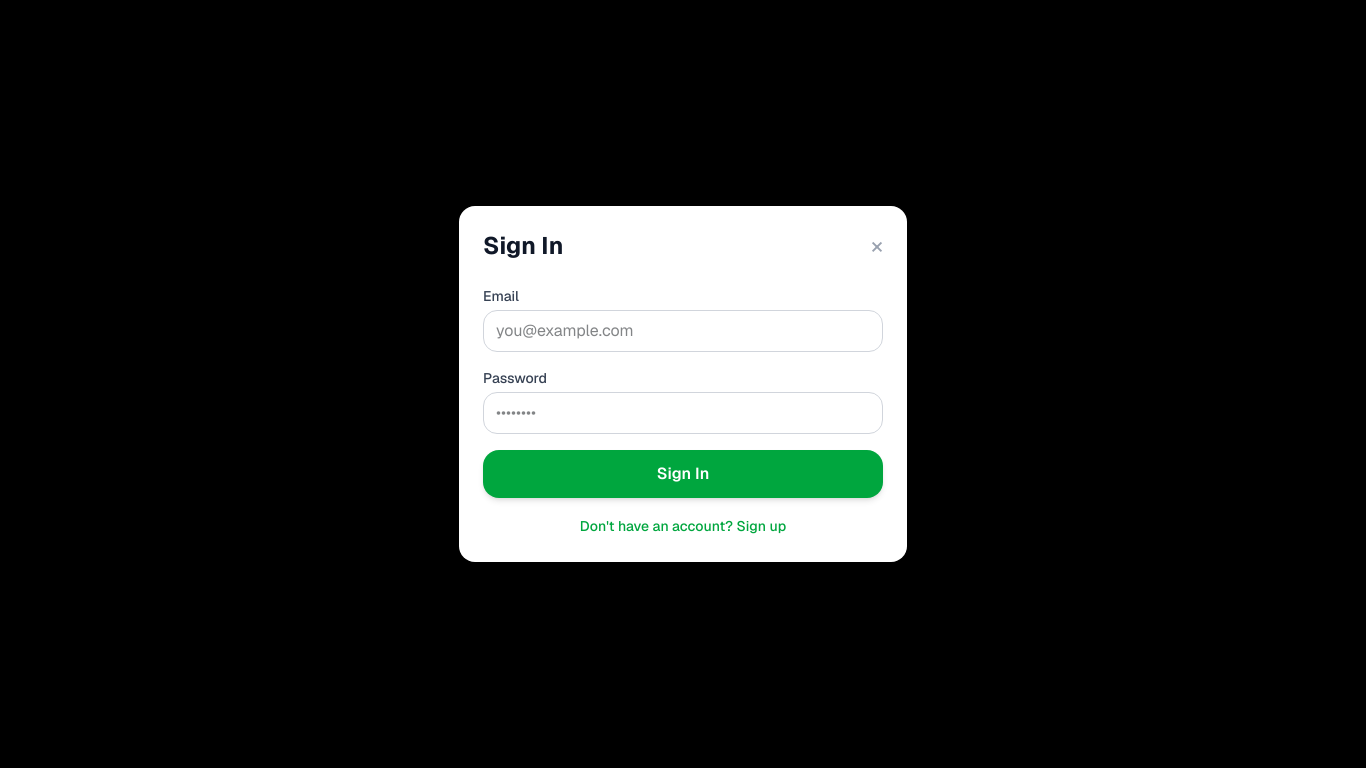
Test: AuthModal › form validation › should show error for mismatched passwords in sign up
Switch to sign up mode
Click the button "Don't have an account? Sign up". click: (683, 526)
box: [580,516,786,536]
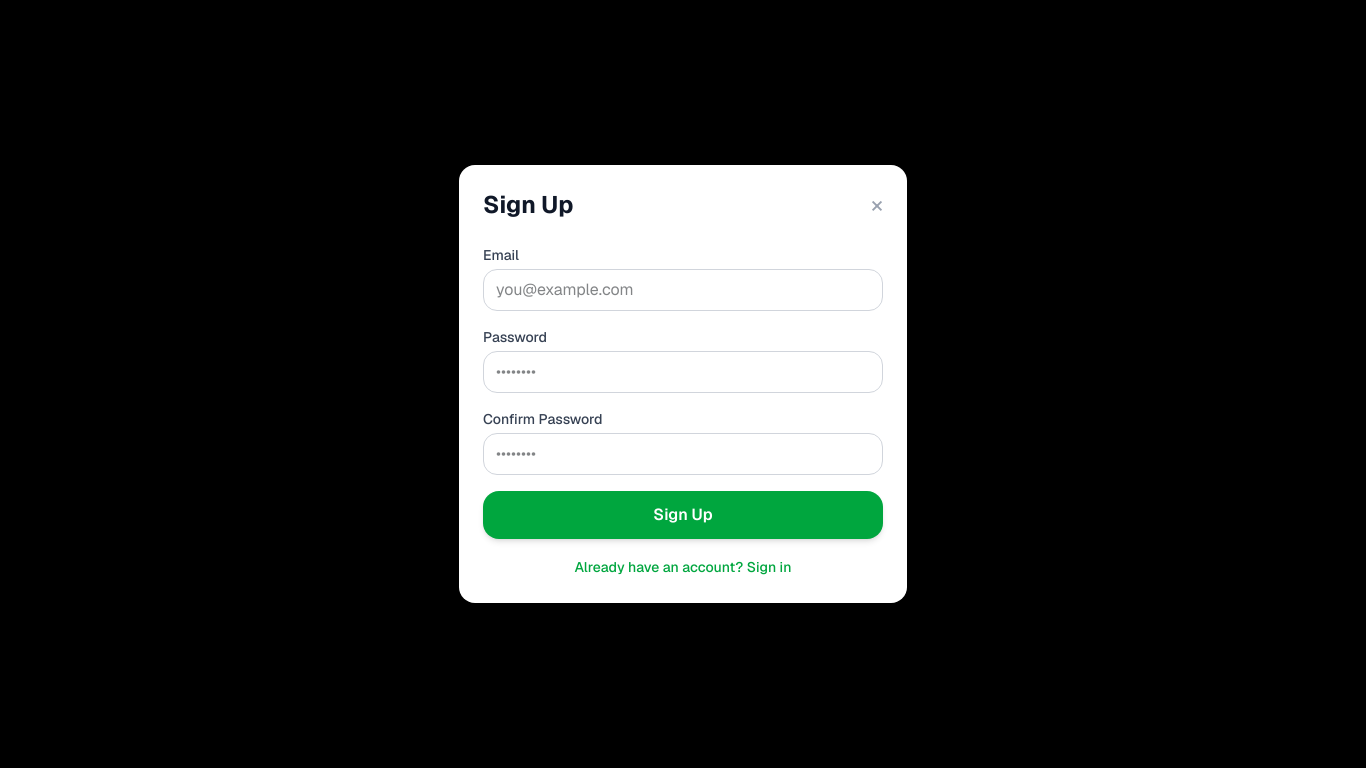
Type "test@example.com" into the field labelled "Email". click: (683, 290)
box: [483,269,883,311]
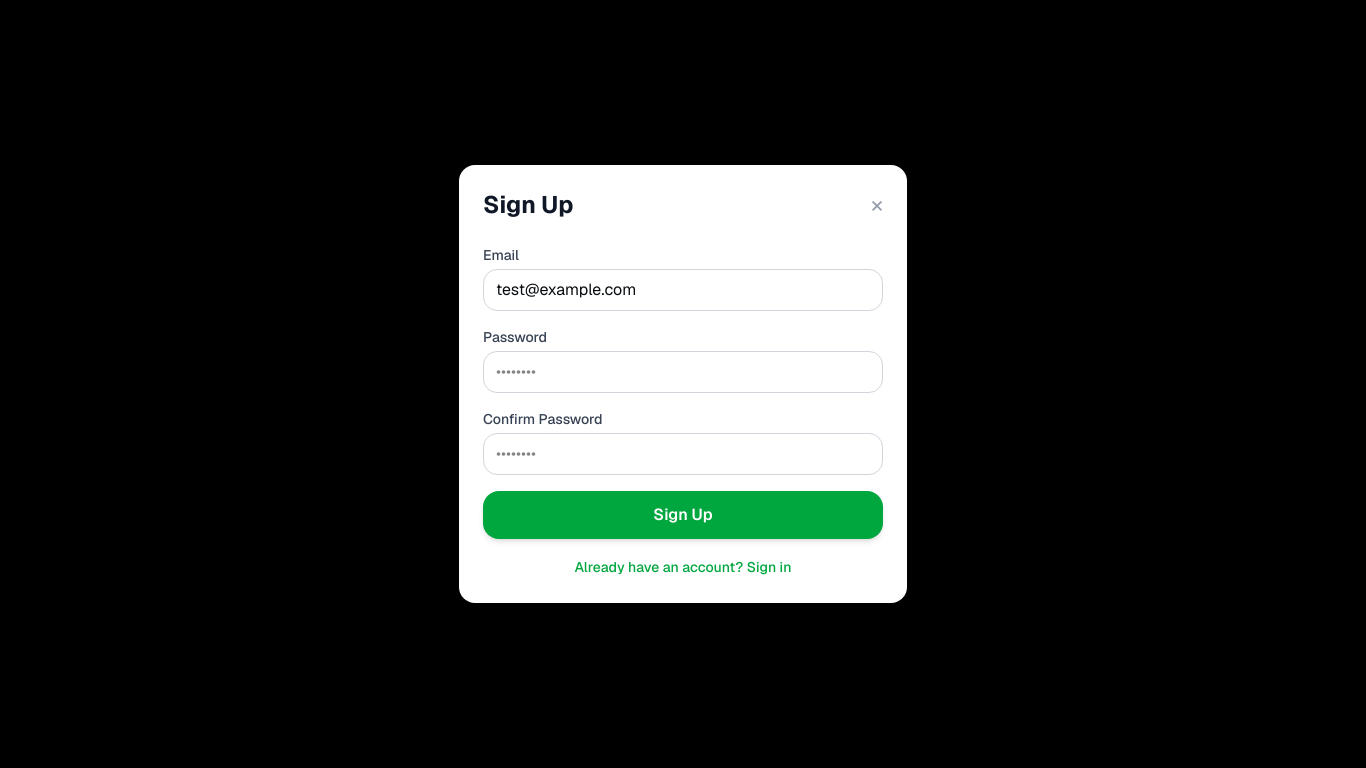
Type "password123" into the password field labelled "Password". click: (683, 372)
box: [483,351,883,393]
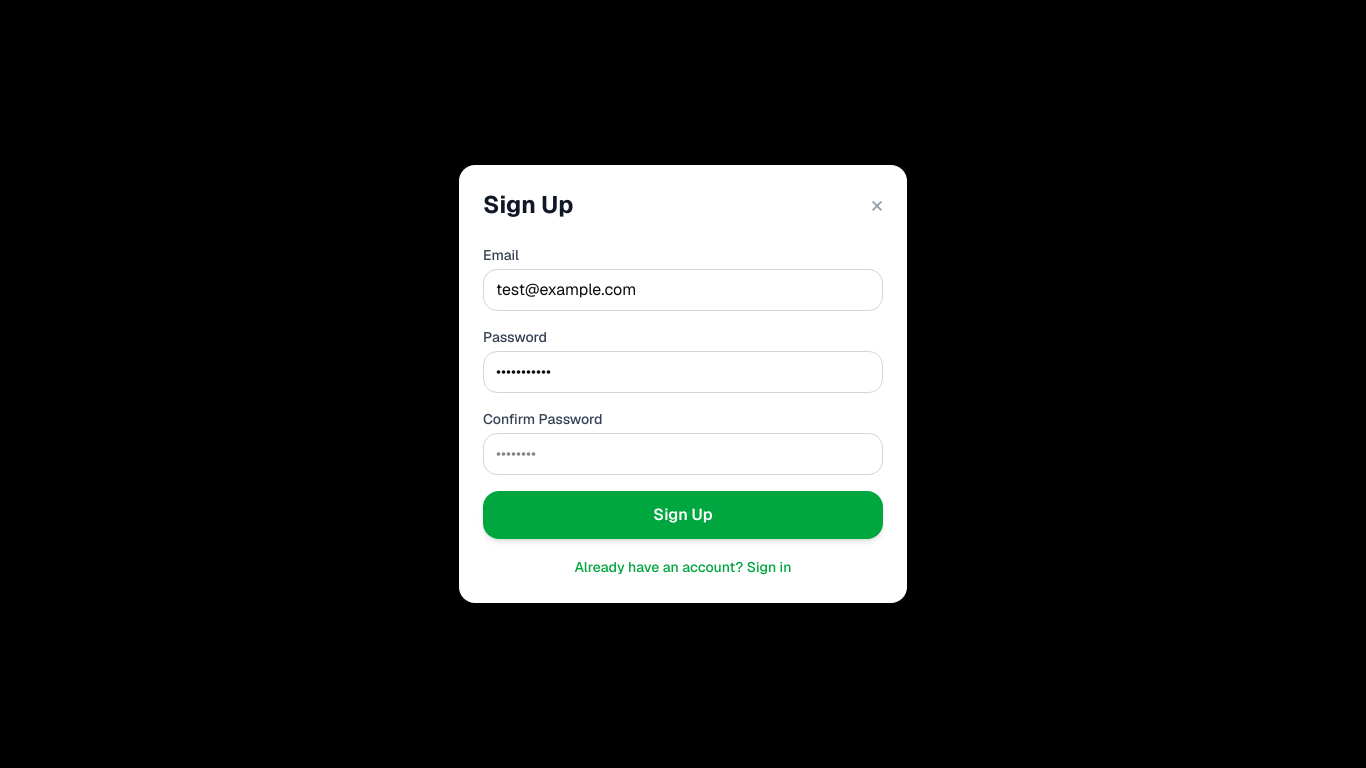
Type "password456" into the password field labelled "Confirm Password". click: (683, 454)
box: [483,433,883,475]
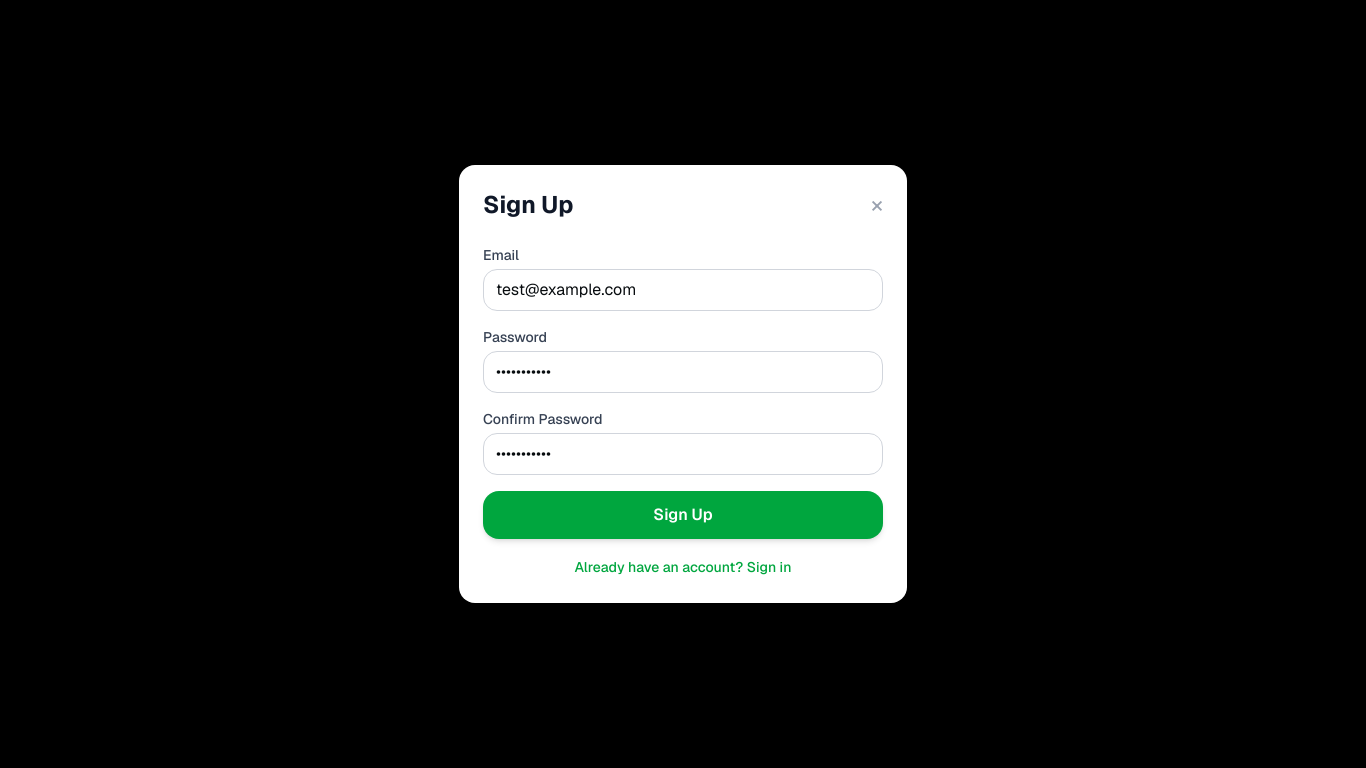
Submit the form, box [483,245,883,539]
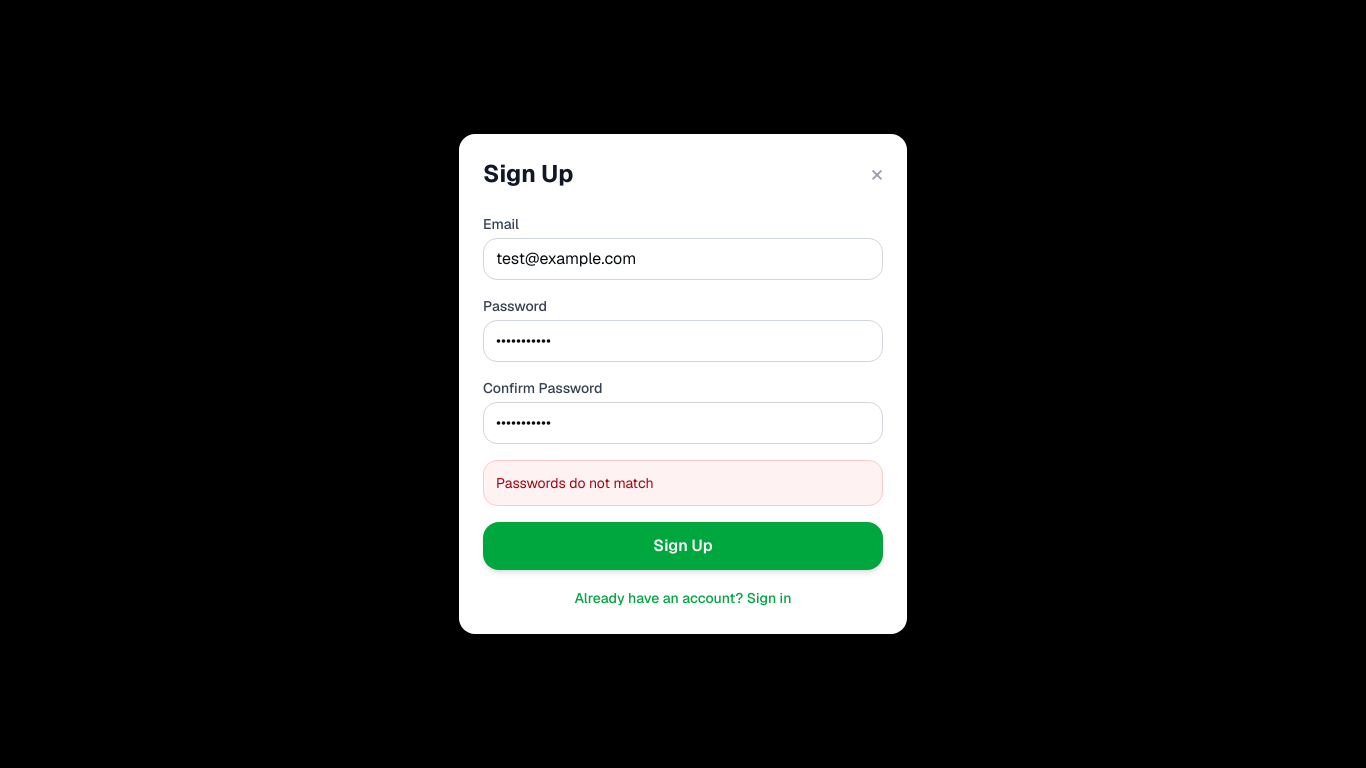
Check: the text "Passwords do not match" is shown, box [496,474,654,492]
